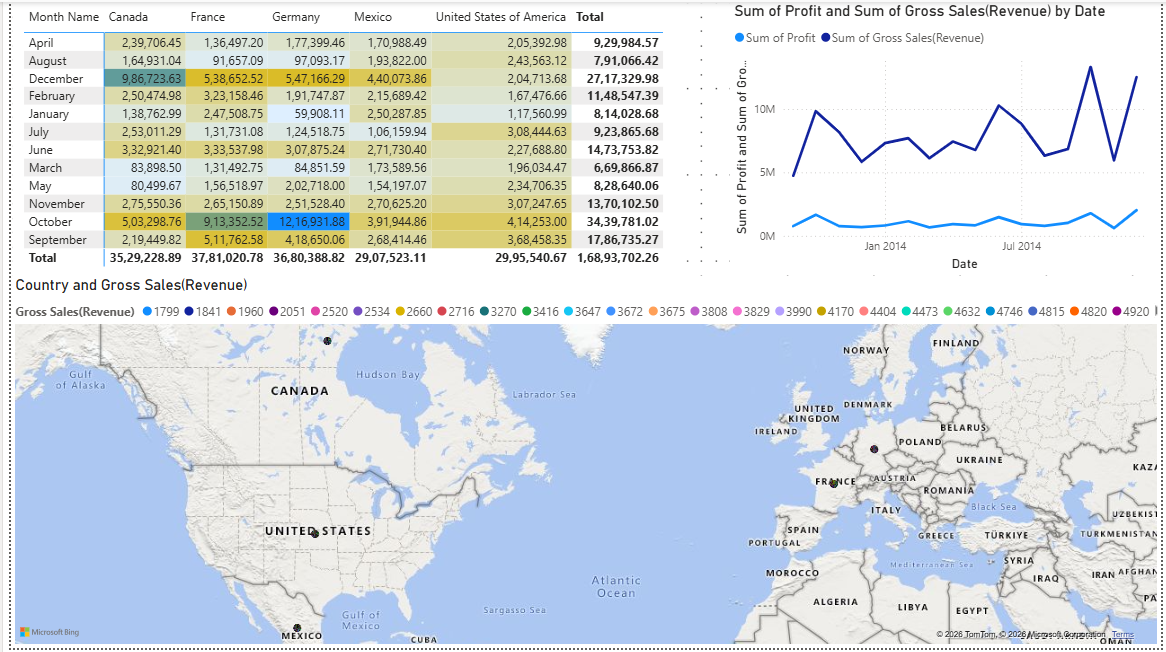

Layout of this report page (visuals, bound fields, positions):
{"tool":"powerbi","page":{"name":"Page 2","canvas":[1280,720],"ordinal":1},"visuals":[{"type":"pivotTable","fields":{"Rows":["Sheet1.Month Name"],"Values":["Sum(Sheet1.Profit)"],"Columns":["Sheet1.Country"]},"box":[9.6,0,728.6,338.9],"z":0},{"type":"lineChart","fields":{"Y":["Sum(Sheet1.Profit)","Sum(Sheet1.Gross Sales(Revenue))"],"Category":["Sheet1.Date"]},"box":[800,0,480,304],"z":1000},{"type":"map","fields":{"Category":["Sheet1.Country"],"Series":["Sheet1.Gross Sales(Revenue)"]},"box":[0,304,1280,416],"z":2000}]}

Visuals, with their boxes in screenshot pixels (x1, y1, x2, y2), scaled from the page's 1280x720 canvas onto the 1166x652 screenshot:
pivotTable - Sheet1.Month Name x Sum(Sheet1.Profit): [x1=9, y1=0, x2=672, y2=307]
lineChart - Sum(Sheet1.Profit) x Sum(Sheet1.Gross Sales(Revenue)): [x1=729, y1=0, x2=1165, y2=275]
map - Sheet1.Country x Sheet1.Gross Sales(Revenue): [x1=0, y1=275, x2=1165, y2=651]
